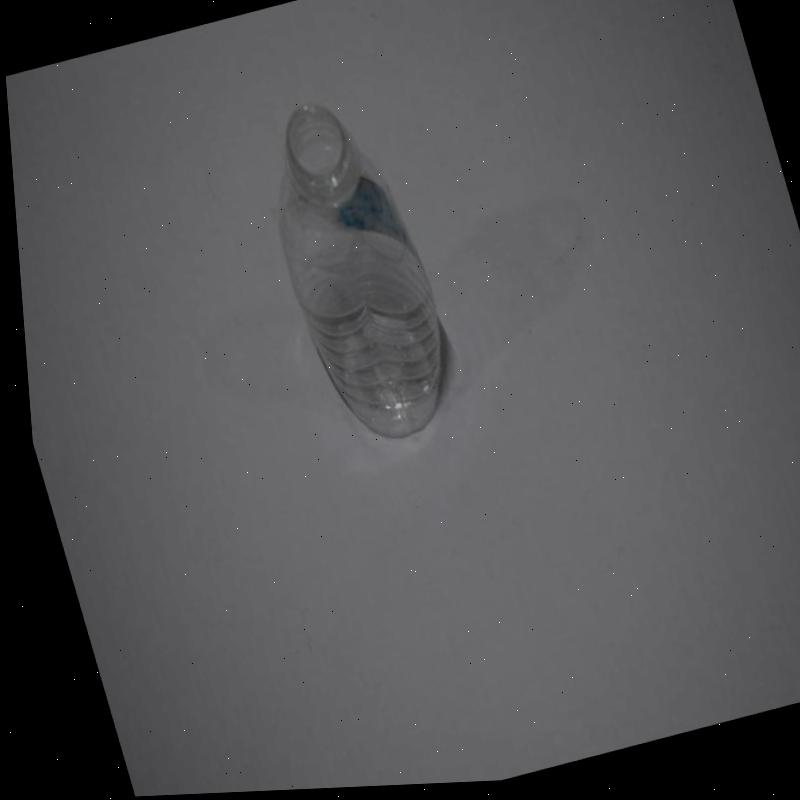botella: (239, 89, 465, 467)
